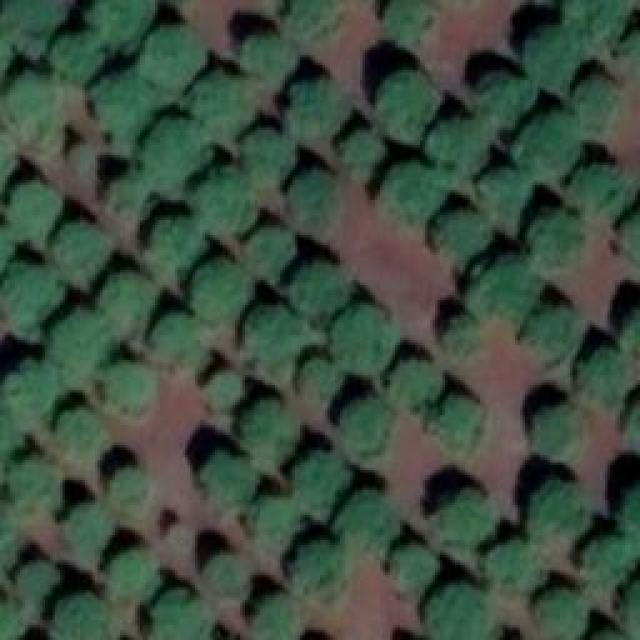Tree: (462, 255, 540, 320), (183, 168, 258, 233), (368, 70, 438, 138), (515, 110, 580, 178), (430, 483, 500, 546), (420, 582, 495, 640), (140, 20, 205, 85), (143, 115, 208, 180), (283, 78, 348, 141), (333, 303, 396, 368), (42, 315, 110, 375), (473, 535, 546, 590), (525, 25, 583, 93), (0, 69, 62, 132), (285, 170, 345, 235), (383, 163, 448, 223), (560, 0, 630, 55), (470, 70, 540, 125), (90, 73, 153, 133), (423, 115, 488, 173), (530, 483, 590, 543), (565, 163, 630, 218), (193, 75, 253, 133), (188, 257, 248, 315), (290, 535, 350, 593), (572, 345, 630, 403), (523, 210, 586, 263), (238, 128, 298, 183), (2, 0, 65, 52), (5, 363, 63, 418), (235, 400, 295, 453), (330, 395, 390, 448), (290, 260, 348, 313), (245, 305, 303, 358), (293, 455, 346, 513), (53, 220, 108, 275), (530, 585, 585, 640), (145, 215, 205, 265), (525, 305, 580, 358), (98, 270, 153, 323), (203, 448, 258, 501), (152, 587, 207, 640), (0, 268, 58, 318), (242, 590, 300, 640), (525, 403, 578, 456), (427, 210, 485, 258), (243, 38, 298, 88), (340, 490, 390, 545), (580, 538, 635, 588), (335, 125, 385, 178), (10, 453, 60, 506), (50, 32, 105, 80), (100, 360, 155, 408), (153, 307, 208, 355), (63, 592, 118, 640), (90, 0, 155, 40), (432, 393, 480, 446), (105, 550, 158, 598), (198, 550, 251, 598), (245, 225, 295, 275), (58, 503, 108, 553), (388, 360, 443, 405), (5, 185, 53, 235), (478, 165, 528, 213), (58, 410, 108, 458), (255, 493, 300, 543), (380, 0, 435, 40), (390, 542, 435, 590), (570, 73, 613, 123), (17, 558, 65, 601), (285, 0, 338, 38), (110, 462, 150, 510), (105, 173, 148, 216), (295, 357, 343, 395), (200, 368, 243, 408), (440, 320, 483, 360), (615, 472, 640, 540), (615, 28, 640, 78), (617, 210, 640, 257), (620, 303, 640, 353), (622, 390, 640, 445), (0, 495, 18, 548), (0, 225, 15, 280)
